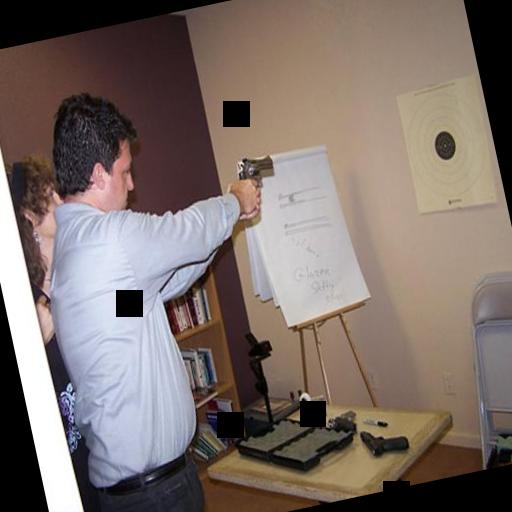Handgun: (229, 146, 280, 208)
